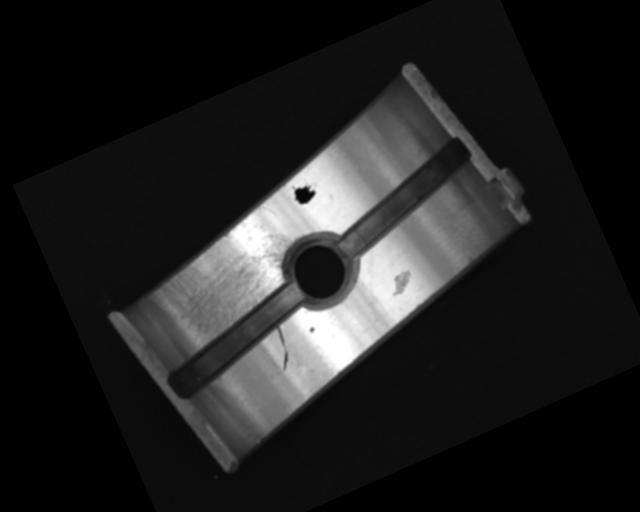blot: (288, 176, 322, 208)
bruise: (386, 268, 416, 297), (308, 325, 316, 334)
gap: (150, 278, 323, 404), (318, 136, 489, 262)
hole: (273, 223, 367, 317)
nick: (266, 325, 298, 372)
scratch: (132, 200, 322, 359)
